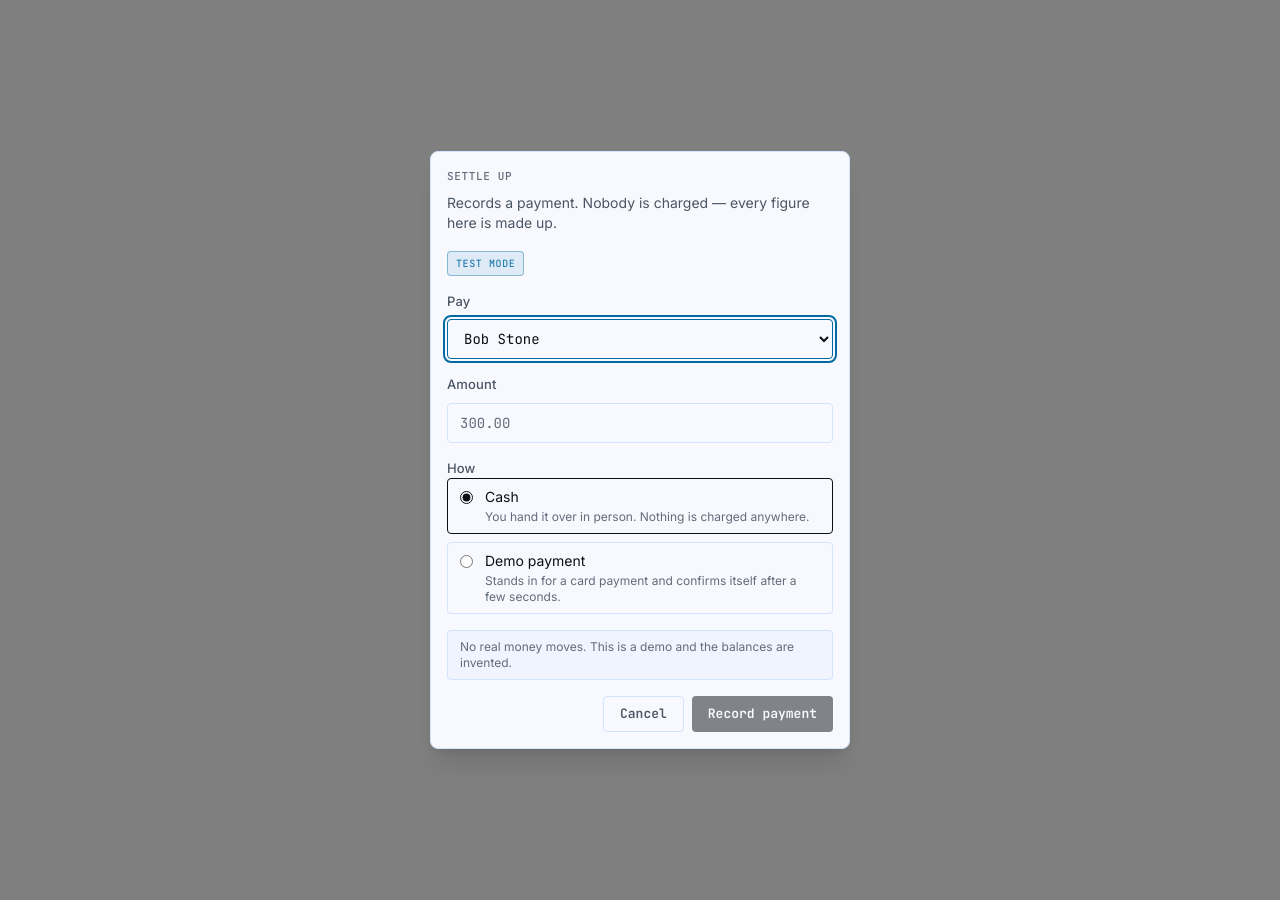
Test case: SettleUpDialog › cannot be submitted without an amount
Expected: the button "Record payment" is disabled, x1=692 y1=696 x2=833 y2=732
In the field labelled "Amount": (640, 422) x1=447 y1=402 x2=833 y2=442, type "300"
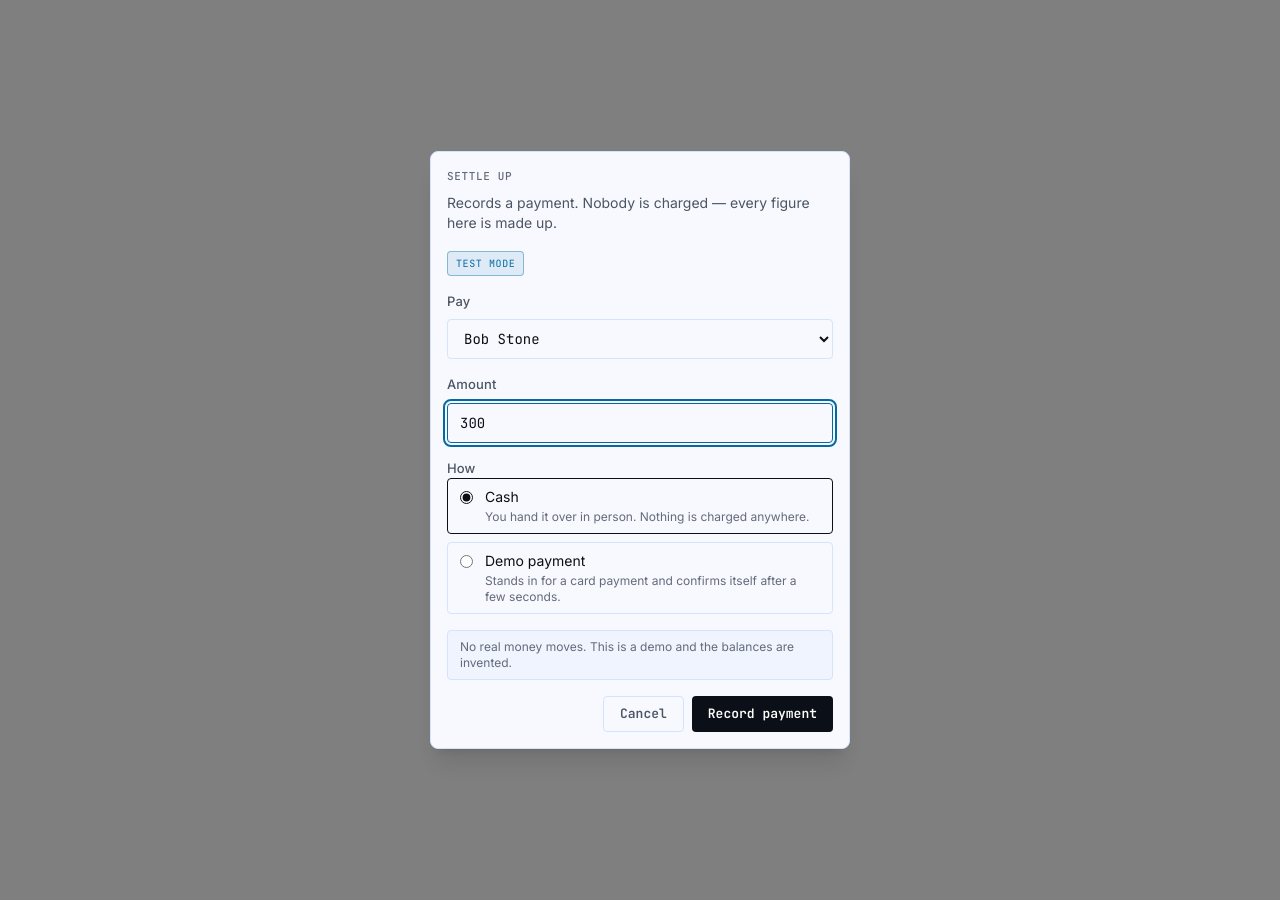
Expected: the button "Record payment" is enabled, x1=692 y1=696 x2=833 y2=732
